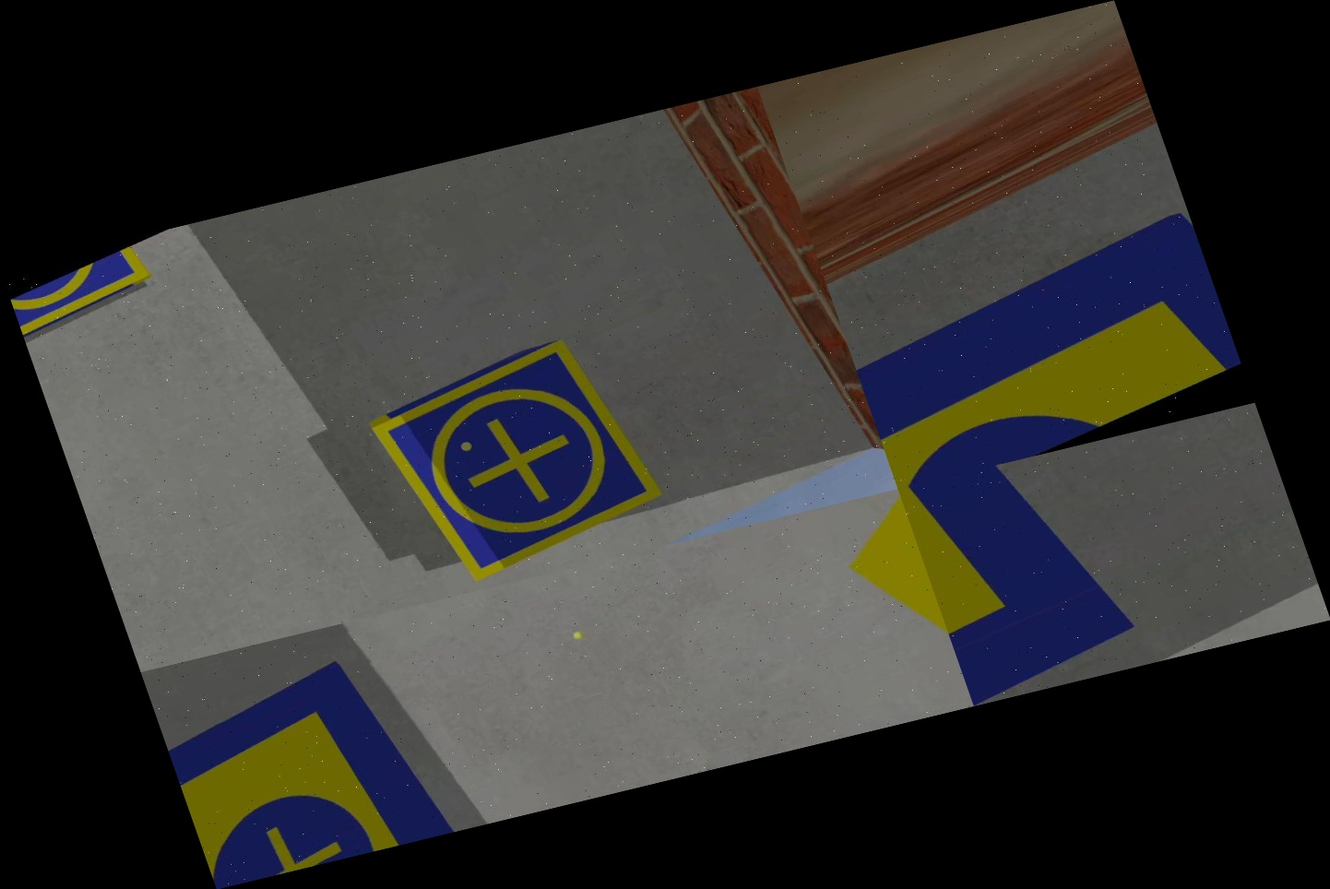large_base: (829, 205, 1254, 489), (150, 628, 515, 888), (898, 444, 1155, 705)
small_base: (358, 329, 677, 597), (3, 243, 165, 346)
